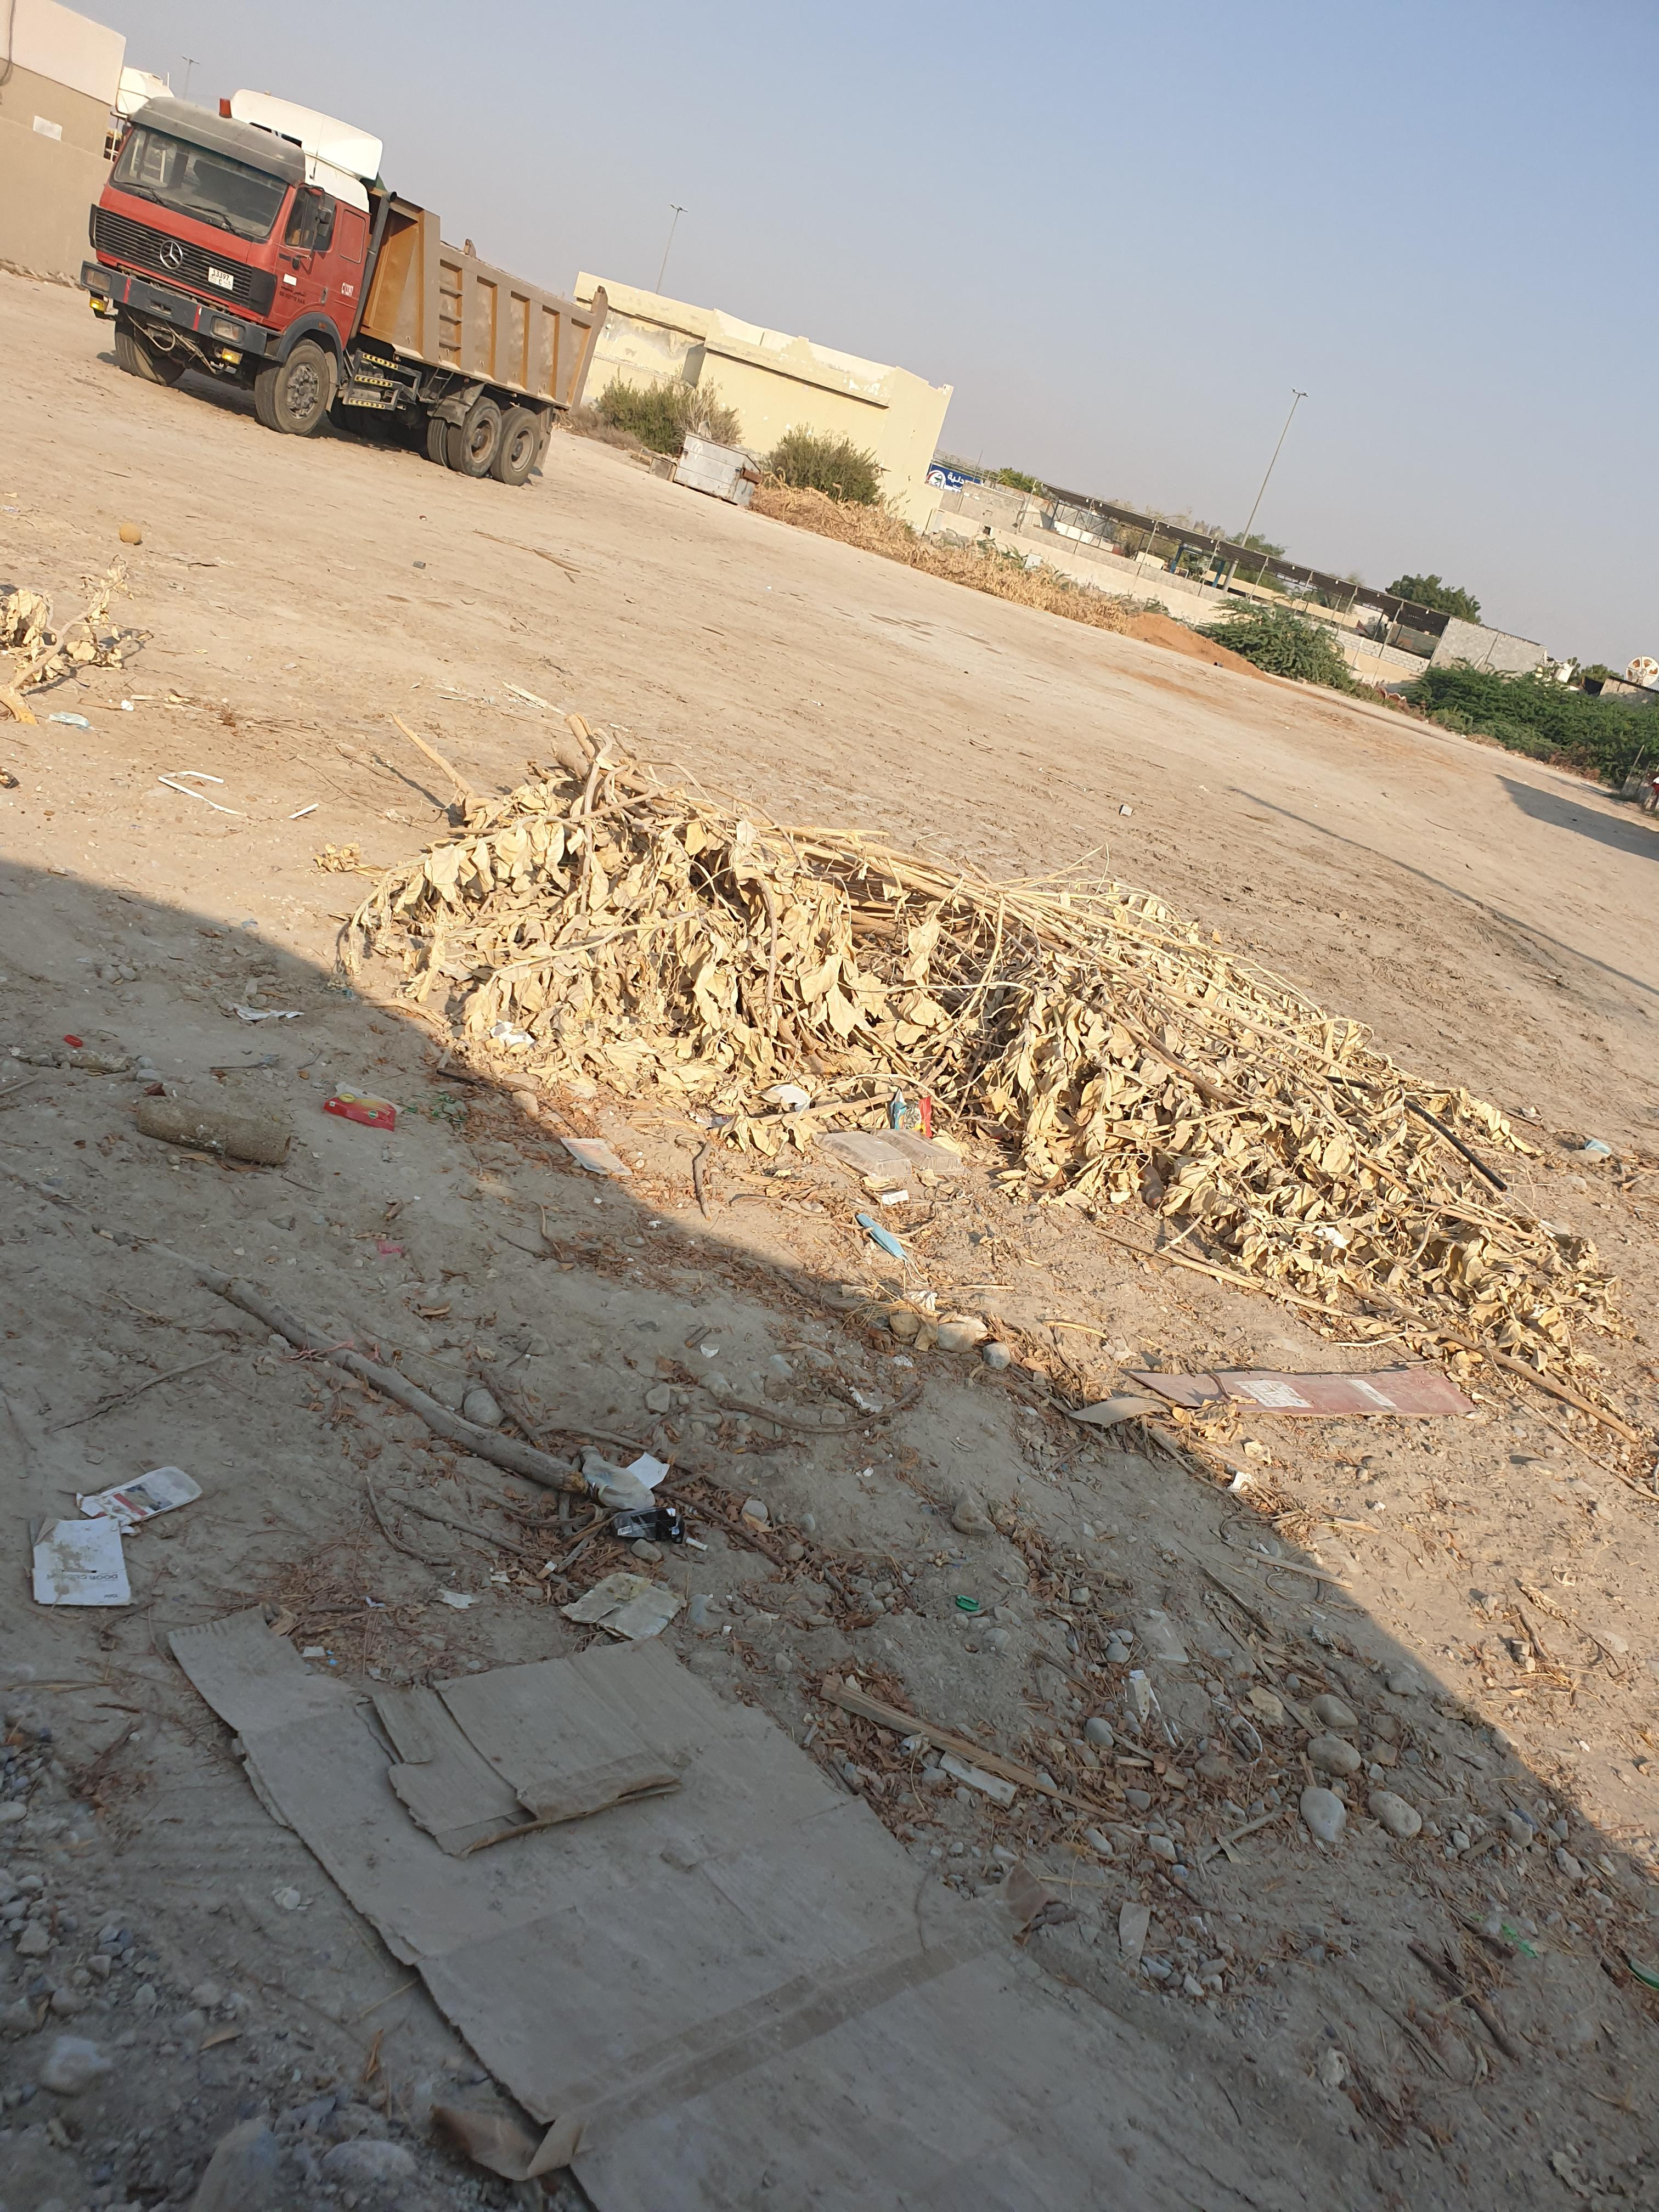fallen_trees: (307, 636, 1474, 1552), (349, 712, 1541, 1284), (422, 792, 1488, 1202), (1028, 944, 1615, 1461), (268, 852, 784, 1170), (528, 658, 924, 954), (0, 489, 213, 723)
